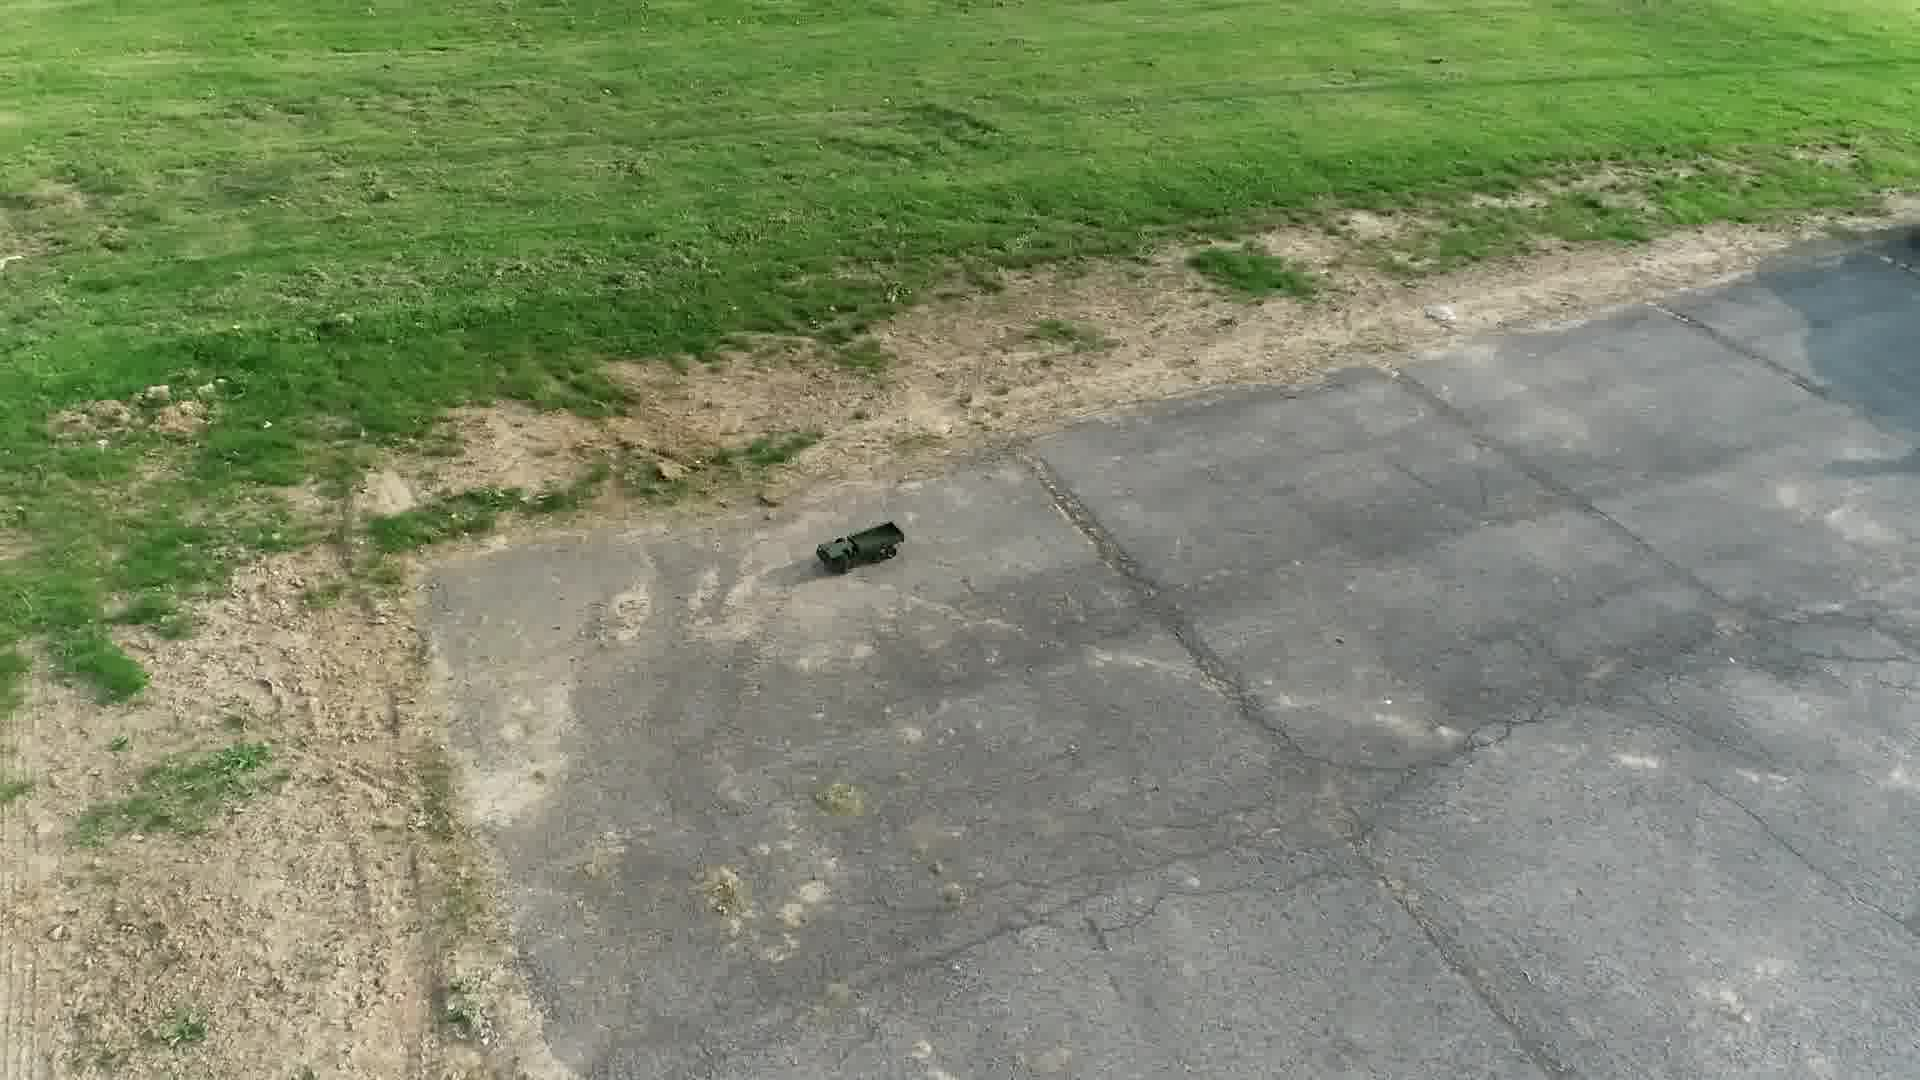transporter9: (815, 517, 909, 575)
